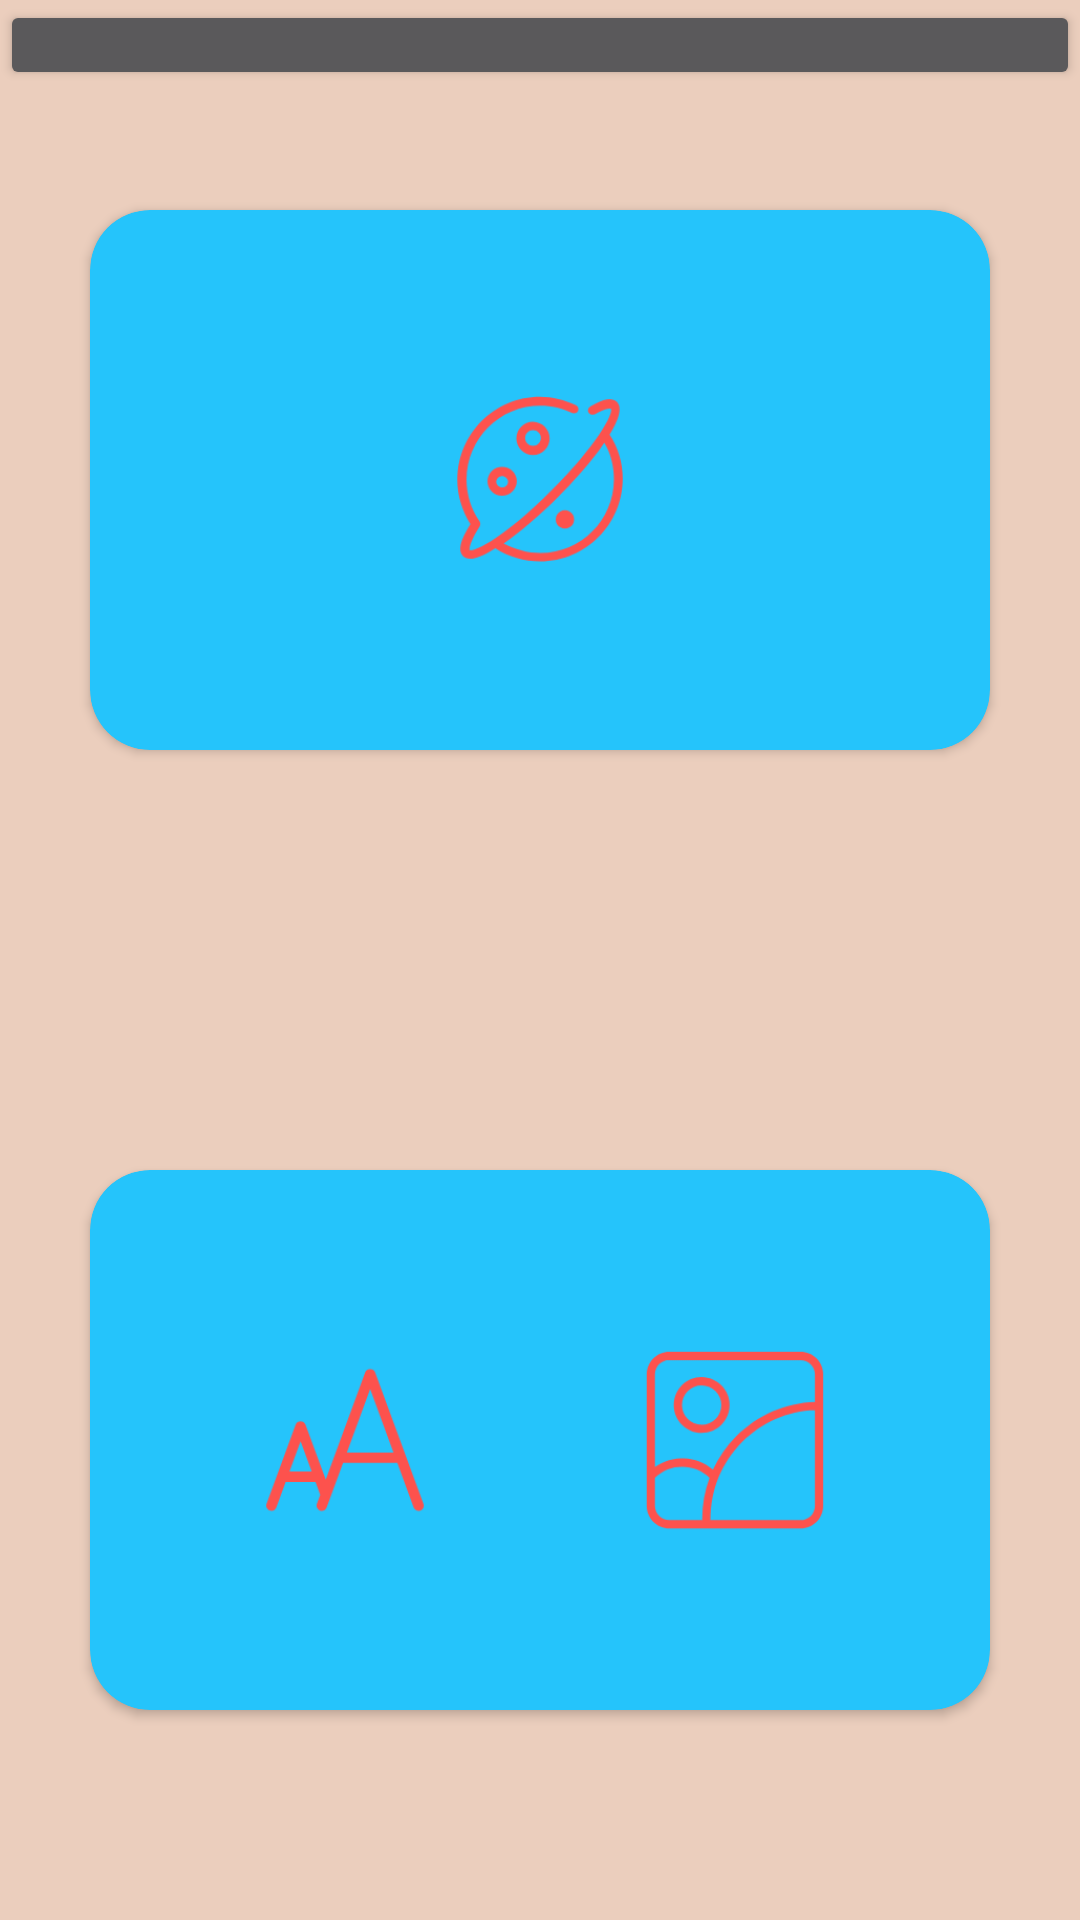

Where to tap for icons on this 1080 × 1920 app screen, as (x,y):
text: (345,1440)
